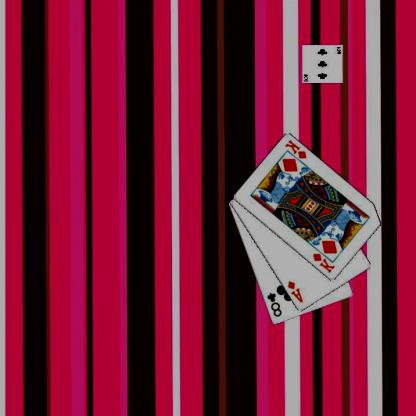8C: (266, 290, 284, 318)
AD: (287, 279, 306, 304)
KD: (312, 251, 338, 274), (284, 137, 310, 160)
